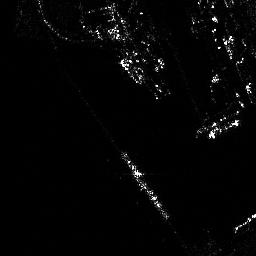ship: (119, 150, 172, 221)
